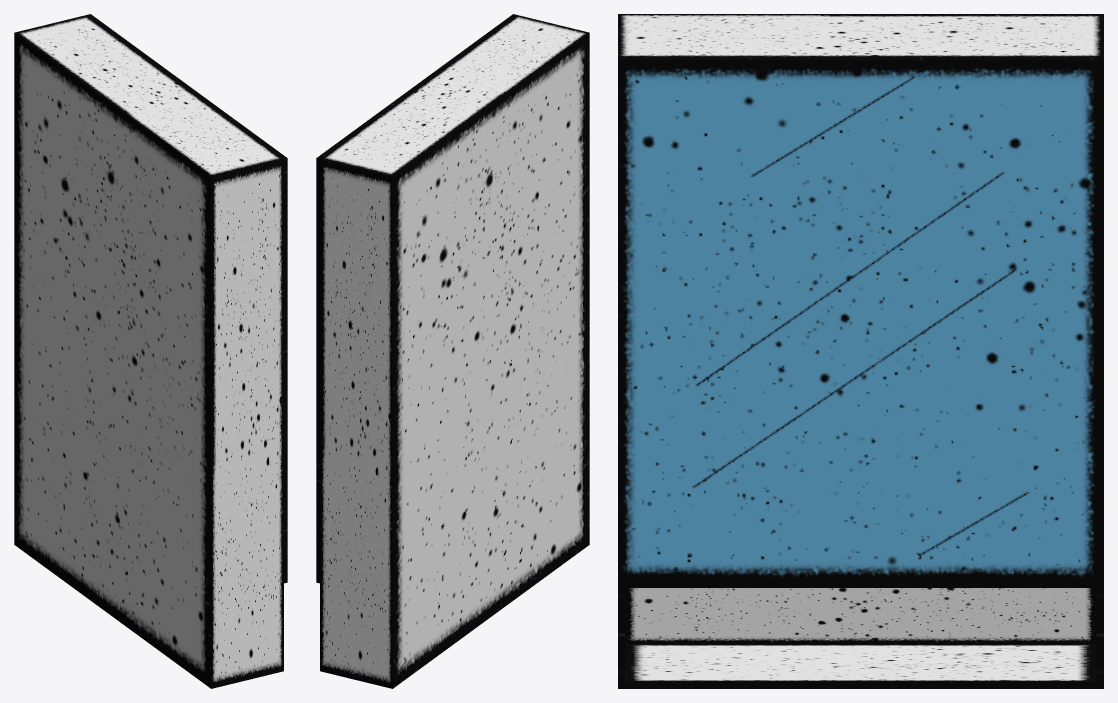
Rendered from bathroom_mirror.obj.
The picture shows the model from 3 angles, left to right: view 1: azimuth 30°, elevation 25°; view 2: azimuth 150°, elevation 25°; view 3: azimuth 270°, elevation 25°; orthographic projection. The views are drawn at different scales.
Parts seen in each view (by area): view 1: Cube; view 2: Cube; view 3: Cube.
Part boxes in pixels (left/top/right/bottom): Cube: left=14, top=14, right=287, bottom=688; Cube: left=316, top=14, right=589, bottom=688; Cube: left=618, top=14, right=1103, bottom=688.
Bounding box in the file's own units: 0.4479 × 2.87 × 2.
